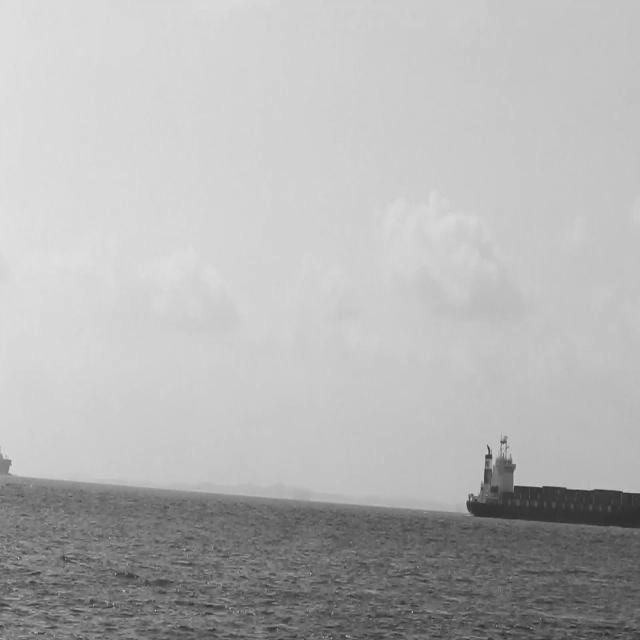ship: (465, 434, 639, 522), (0, 452, 10, 476)
